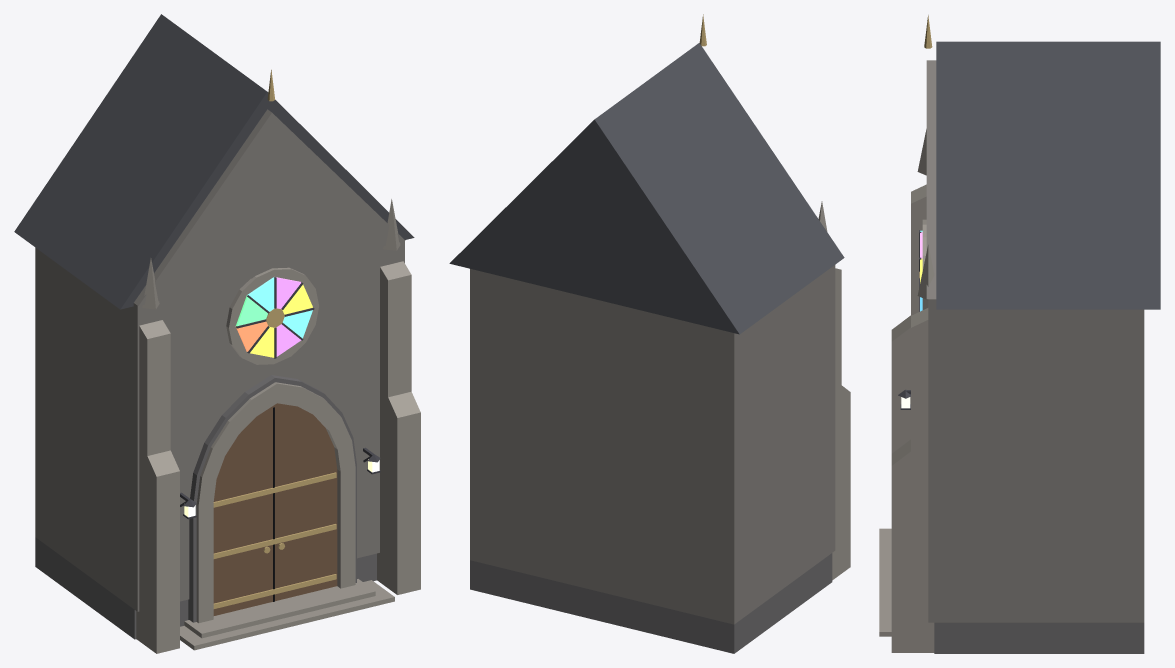
File: library_portal.glb
3 views of the same model, side by side, from view 1: azimuth 30°, elevation 25°; view 2: azimuth 150°, elevation 25°; view 3: azimuth 270°, elevation 25° (orthographic). The views are drawn at different scales.
Visible parts, largest first — view 1: Upper, Plinth; view 2: Upper, Plinth; view 3: Upper, Plinth.
Boxes of the visible parts, left/top/right/bottom form: Upper: left=14, top=14, right=420, bottom=653; Plinth: left=35, top=537, right=420, bottom=653; Upper: left=449, top=14, right=850, bottom=624; Plinth: left=470, top=536, right=850, bottom=653; Upper: left=891, top=15, right=1160, bottom=652; Plinth: left=879, top=528, right=1144, bottom=653.
Bounding box in the file's own units: 8.8 × 15.45 × 6.9.
